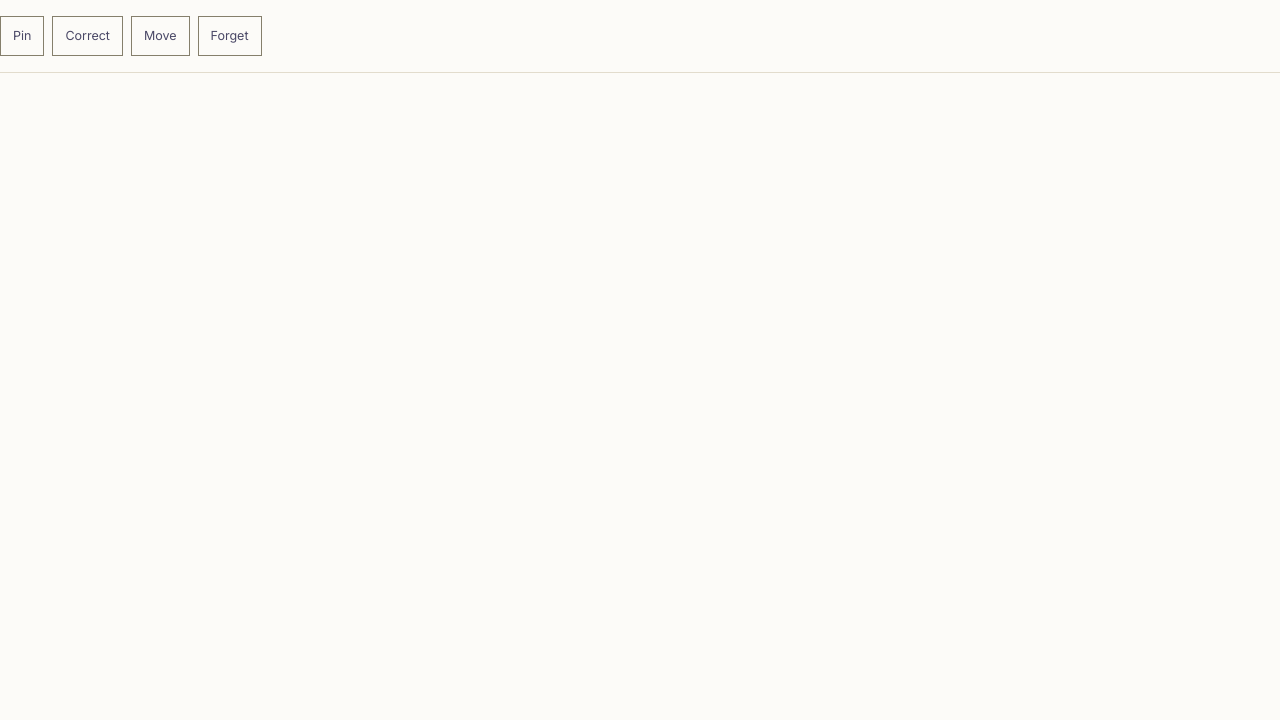
Test case: a confidential memory that cannot move says so
This screenshot has width=1280, height=720.
Click the button "Move" at (160, 36), box [131, 16, 190, 56]
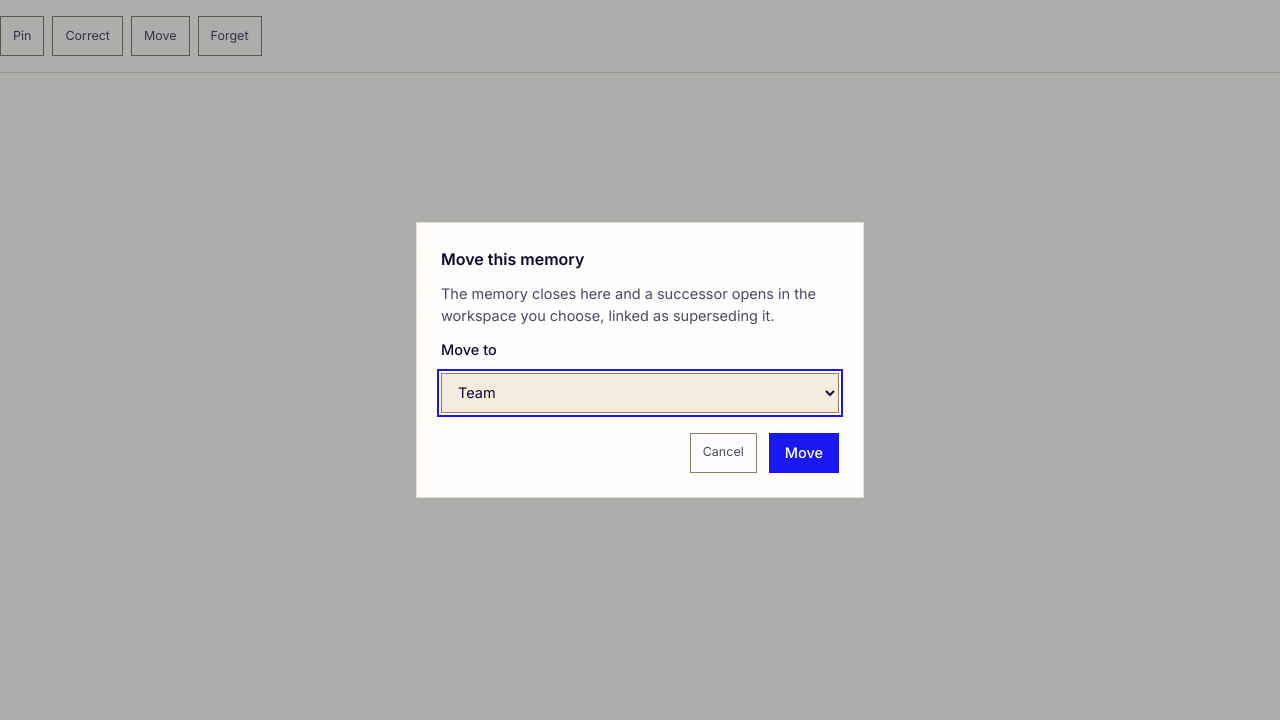
Click the button "Move" at (804, 453), box [769, 433, 839, 473]
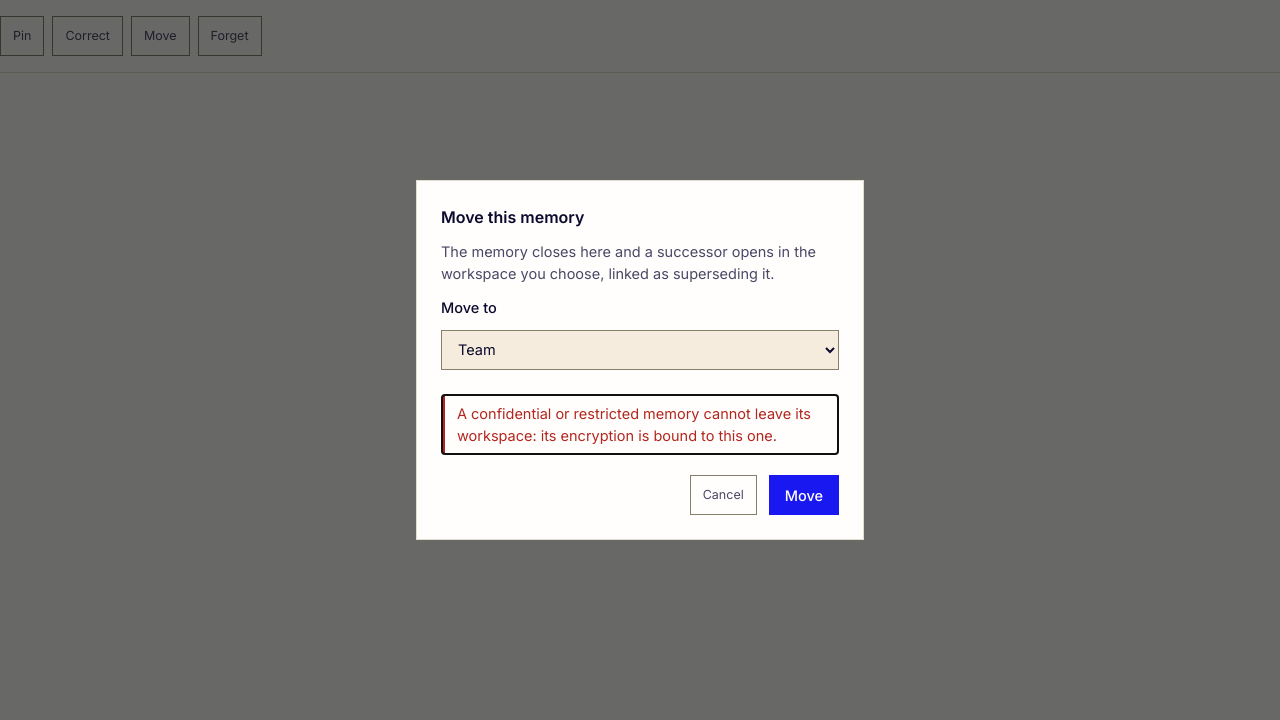
Check: the message shows "cannot leave its workspace", box [457, 405, 811, 444]
